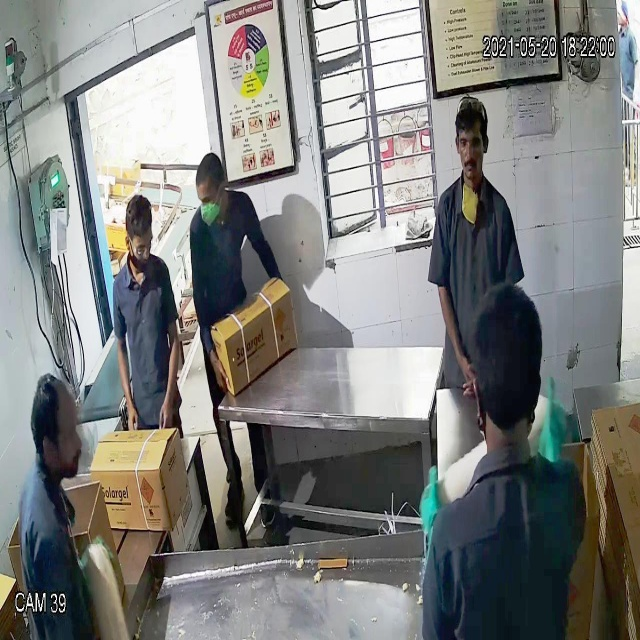Gafas: (124, 233, 155, 260)
Sin_gafas: (451, 125, 492, 156)
